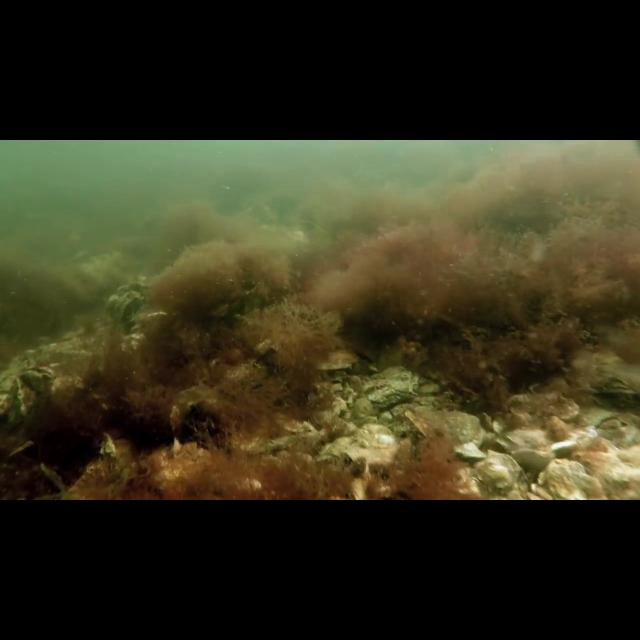Oyster-Closed: (12, 375, 40, 427), (114, 292, 142, 332), (451, 437, 488, 464)
Oyster-Open: (18, 361, 57, 401)
